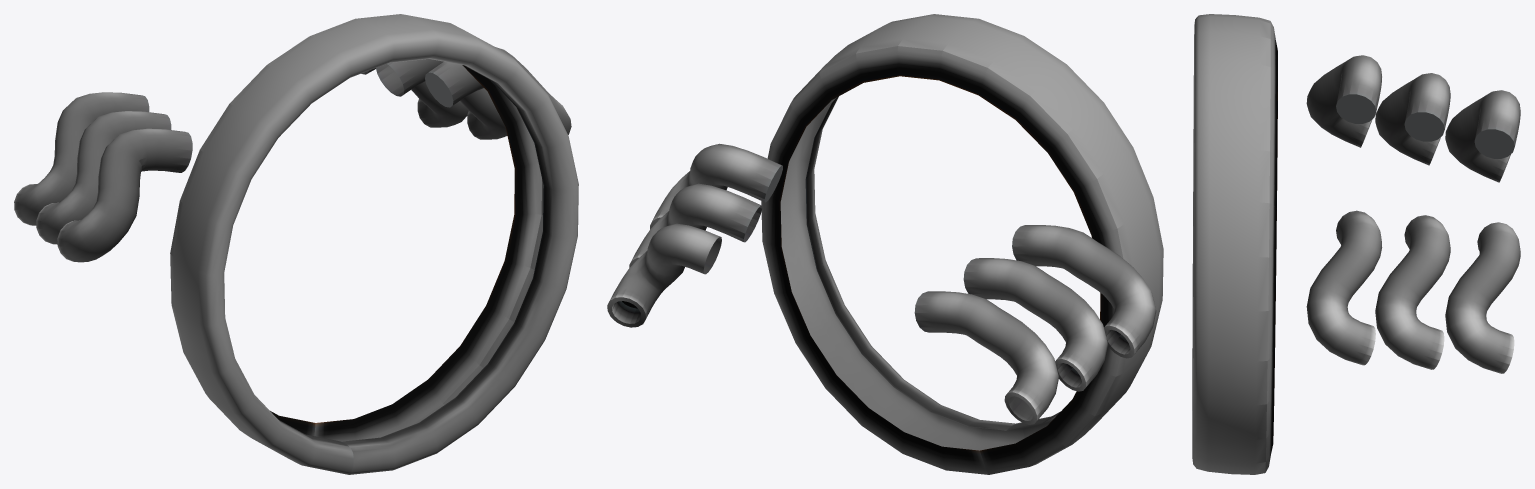
Rendered from seymour_plane_trifans.dae.
3 views of the same model, side by side, from view 1: azimuth 30°, elevation 25°; view 2: azimuth 150°, elevation 25°; view 3: azimuth 270°, elevation 25° (orthographic). The views are drawn at different scales.
Visible parts, largest first — view 1: plane; view 2: plane; view 3: plane.
Boxes of the visible parts, x1=… form: plane: x1=14, y1=14, x2=578, y2=474; plane: x1=607, y1=14, x2=1163, y2=474; plane: x1=1192, y1=14, x2=1520, y2=474.
Bounding box in the file's own units: 6.79 × 5.72 × 4.
